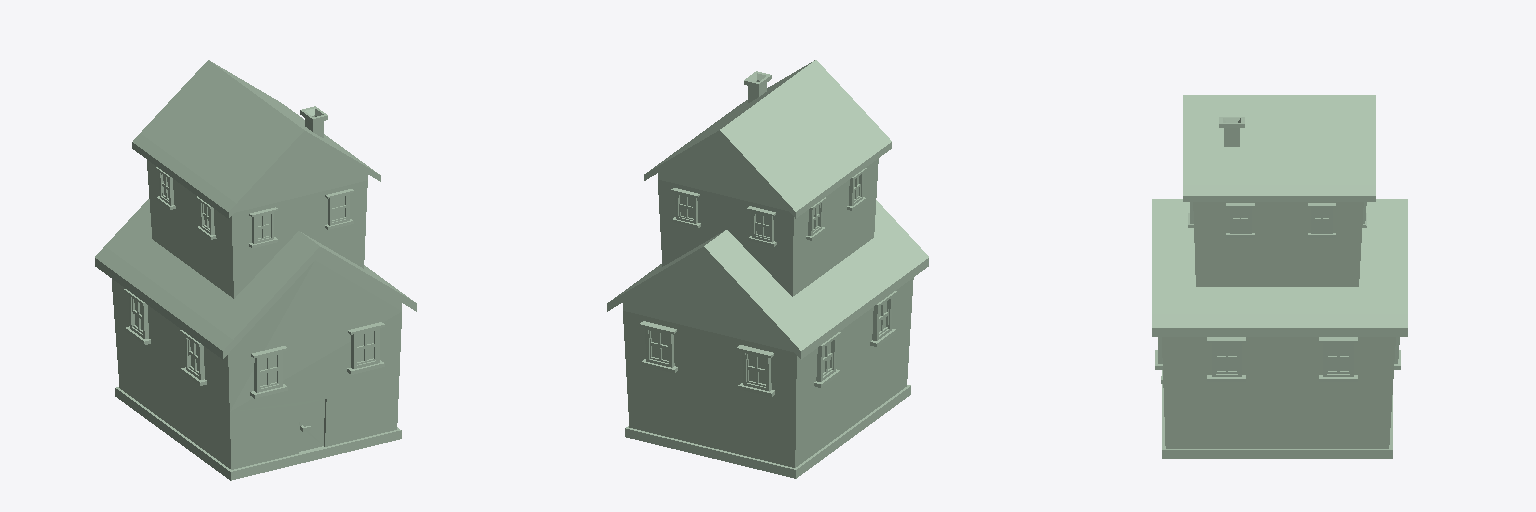
The model's file is House.obj.
The picture shows the model from 3 angles: view 1: azimuth 30°, elevation 25°; view 2: azimuth 150°, elevation 25°; view 3: azimuth 270°, elevation 25°; orthographic projection.
Parts seen in each view (by area): view 1: House3_Cube.034; view 2: House3_Cube.034; view 3: House3_Cube.034.
Boxes of the visible parts, box(x1,y1,x2,y2) form: House3_Cube.034: box(95, 60, 416, 480); House3_Cube.034: box(607, 60, 928, 478); House3_Cube.034: box(1152, 95, 1407, 458).
Size of the model in its own units: 1.25 by 1.99 by 1.44.